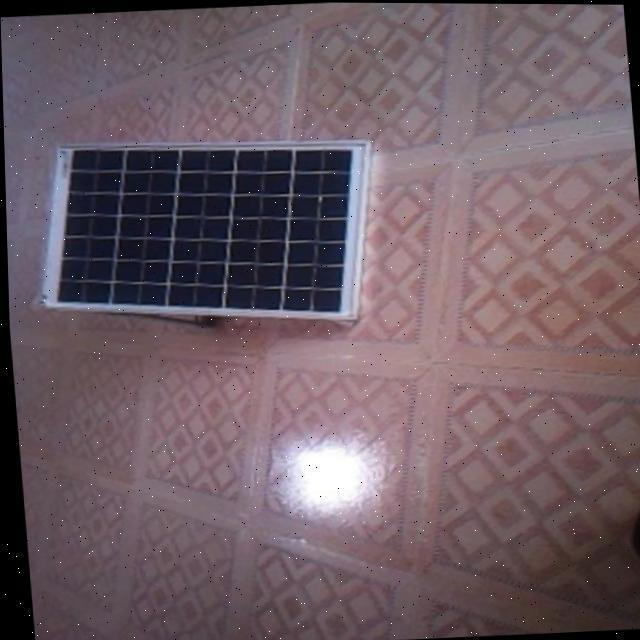Normal Solar Panel: (25, 127, 382, 332)
